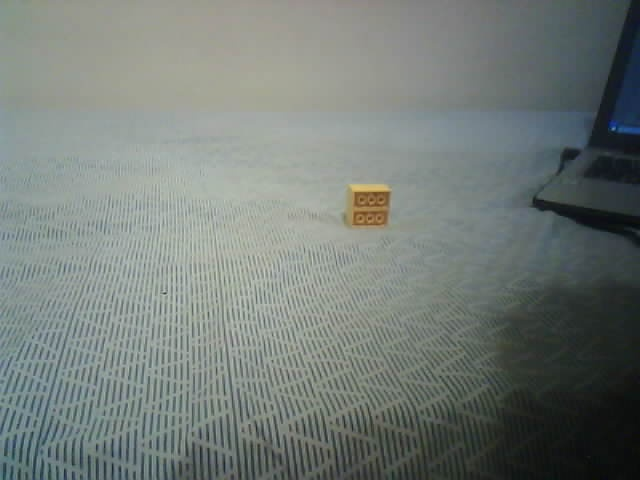lego: (344, 182, 393, 229)
